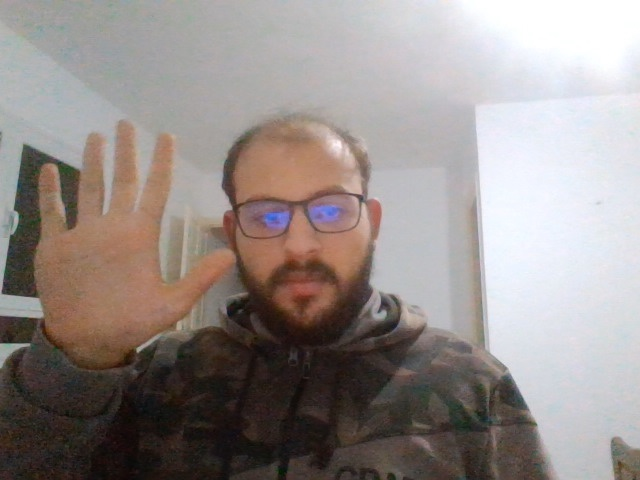Hello: (36, 121, 228, 338)
